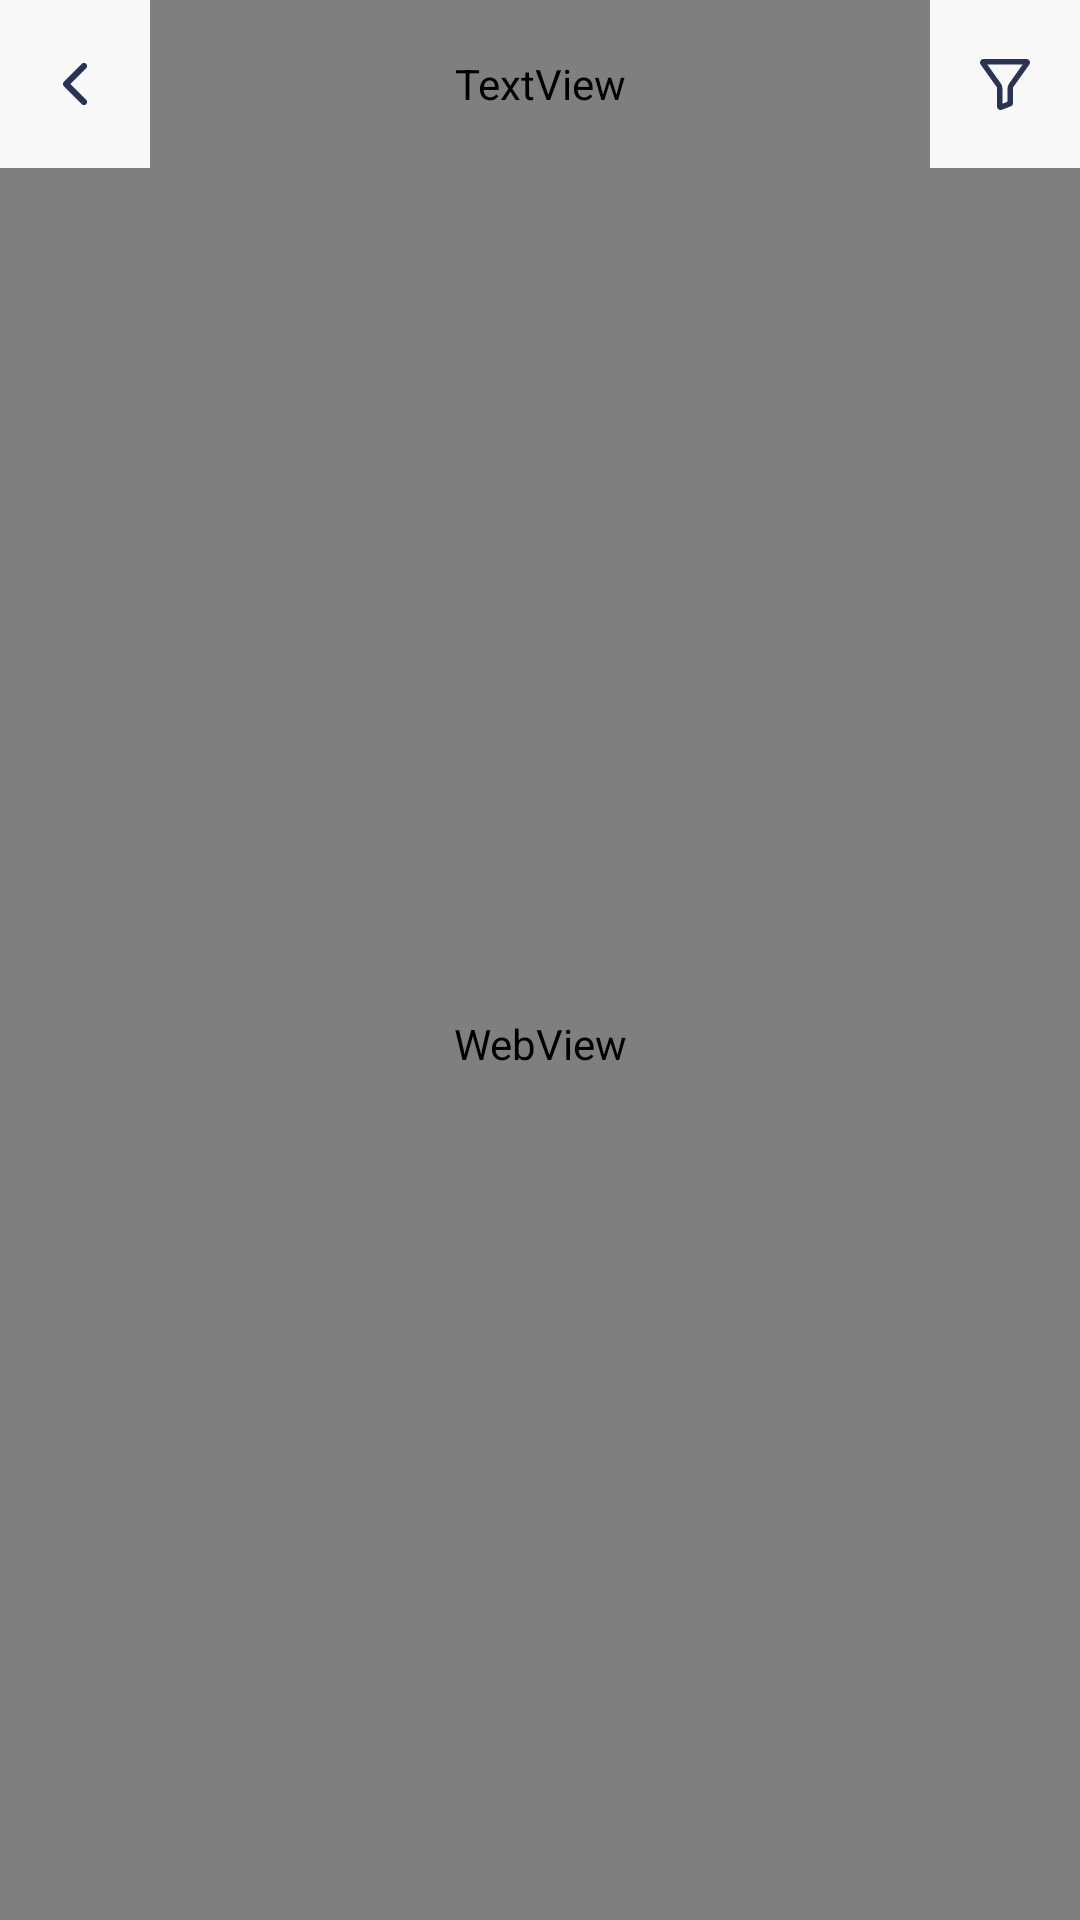

Icon bounding boxes for this 1080px x 1920px phone screenshot, format (x1, y1, x2, y2):
back: (0, 0, 150, 168)
